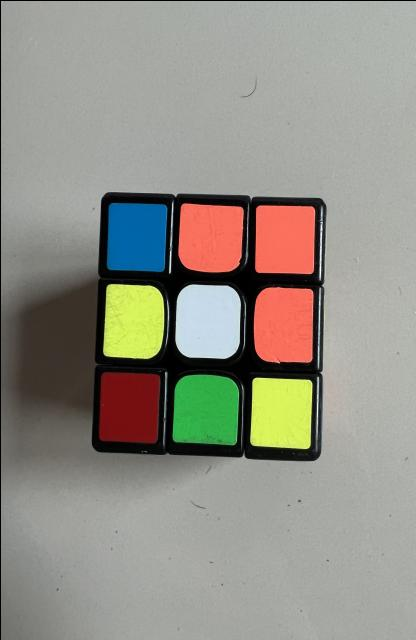Blue: (106, 202, 167, 271)
Green: (171, 374, 238, 445)
Orange: (252, 286, 313, 362), (178, 202, 243, 271), (255, 205, 314, 272)
Red: (98, 371, 159, 442)
White: (174, 284, 240, 358)
Yellow: (249, 376, 312, 449), (102, 284, 164, 358)
